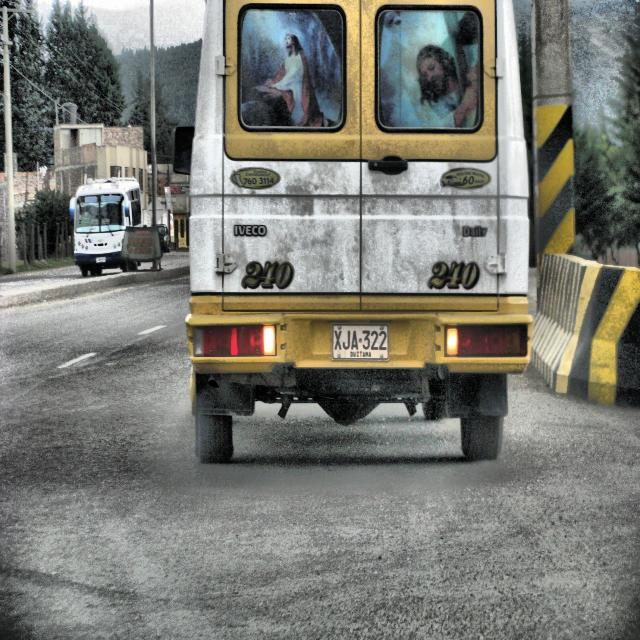plate: (331, 323, 389, 361)
